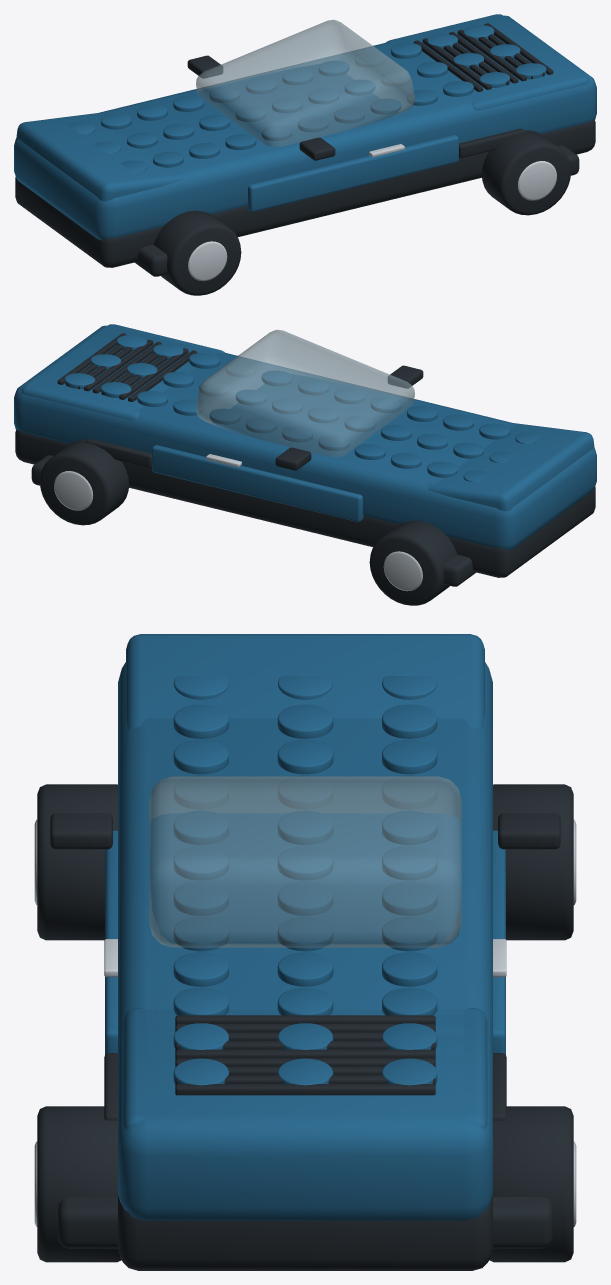
The model's file is brick-hypercar.glb.
3 renders of one model, top to bottom at view 1: azimuth 30°, elevation 25°; view 2: azimuth 150°, elevation 25°; view 3: azimuth 270°, elevation 25°, orthographic. The views are drawn at different scales.
Parts seen in each view (by area): view 1: catalog_surface_RealismUV, catalog_surface_UVMap; view 2: catalog_surface_RealismUV, catalog_surface_UVMap; view 3: catalog_surface_RealismUV, catalog_surface_UVMap.
Boxes of the visible parts, x1,y1,x2,y2 form: catalog_surface_RealismUV: (14, 14, 596, 281); catalog_surface_UVMap: (15, 19, 595, 295); catalog_surface_RealismUV: (14, 324, 596, 591); catalog_surface_UVMap: (15, 329, 595, 605); catalog_surface_RealismUV: (34, 634, 576, 1226); catalog_surface_UVMap: (37, 776, 573, 1270).
Bounding box in the file's own units: 0.32 × 0.09 × 0.15.
